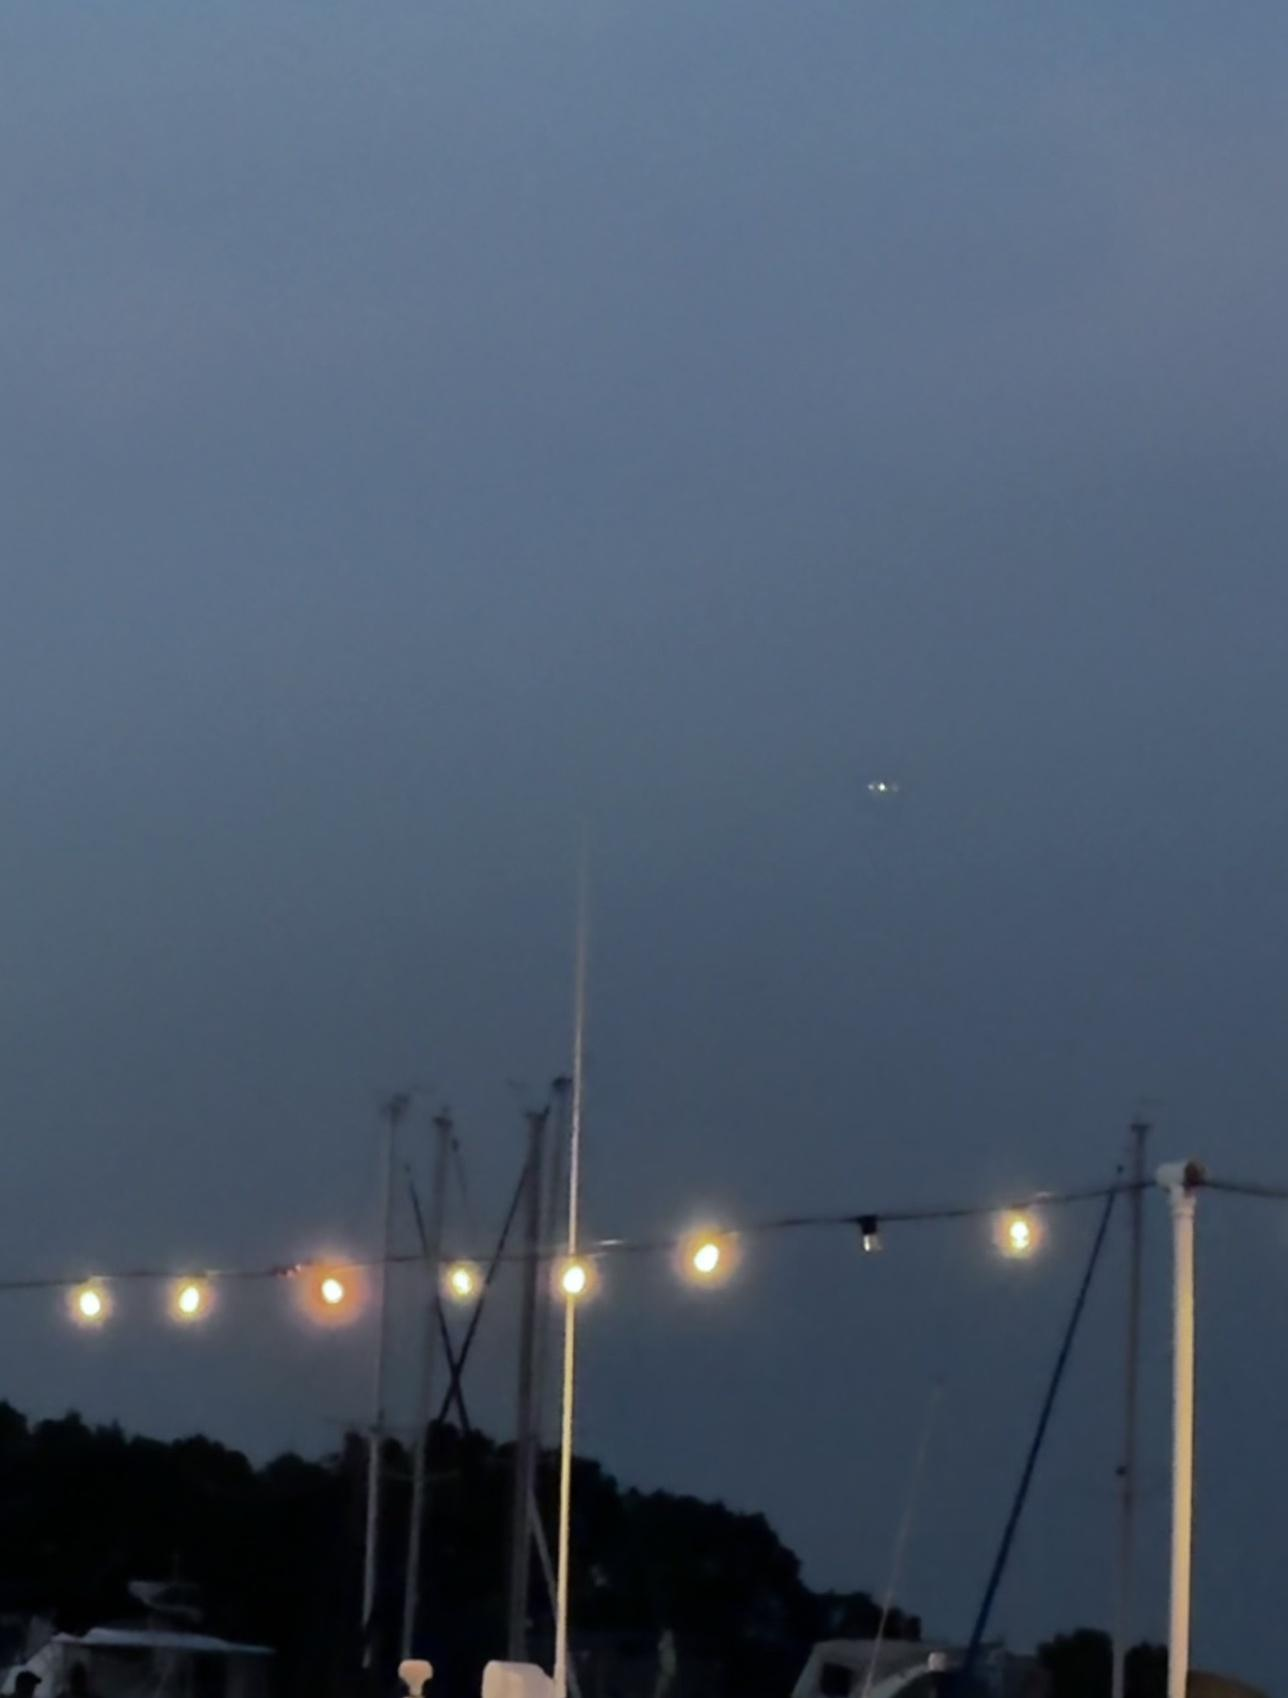Plane: (852, 766, 908, 810)
